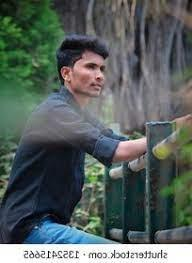Human: (11, 23, 147, 262)
